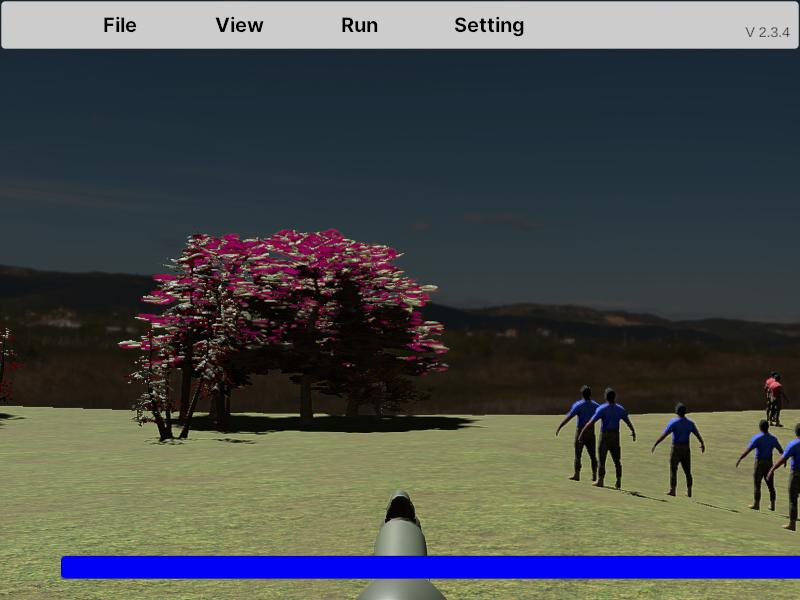Human: (577, 388, 637, 489), (555, 385, 617, 482), (651, 403, 705, 497), (736, 420, 787, 511), (765, 422, 800, 533)
